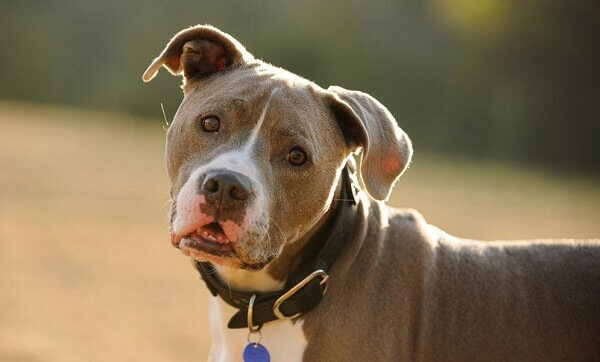Perro Pitbull: (133, 11, 463, 337)
